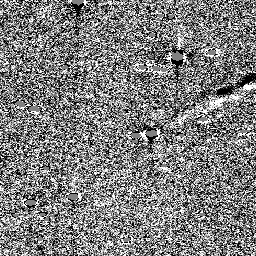LE: (198, 69, 256, 111)
